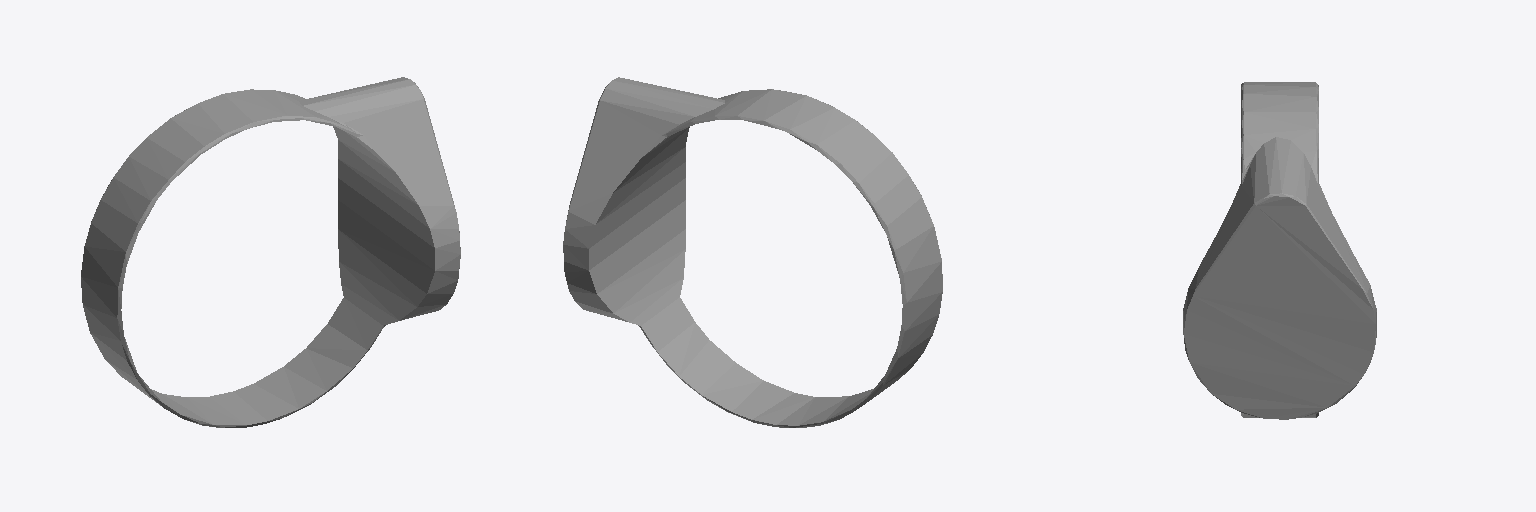
File: r_elbow_flex_link.OBJ
3 views of the same model, side by side, from view 1: azimuth 30°, elevation 25°; view 2: azimuth 150°, elevation 25°; view 3: azimuth 270°, elevation 25° (orthographic).
Visible parts, largest first — view 1: /ambf/env/pr2/r_elbow_flex_link_/ambf/env/pr2/r_elbow_flex_link_; view 2: /ambf/env/pr2/r_elbow_flex_link_/ambf/env/pr2/r_elbow_flex_link_; view 3: /ambf/env/pr2/r_elbow_flex_link_/ambf/env/pr2/r_elbow_flex_link_.
Part boxes in pixels (x1,y1,x2,y2): /ambf/env/pr2/r_elbow_flex_link_/ambf/env/pr2/r_elbow_flex_link_: (81, 77, 460, 427); /ambf/env/pr2/r_elbow_flex_link_/ambf/env/pr2/r_elbow_flex_link_: (563, 77, 942, 427); /ambf/env/pr2/r_elbow_flex_link_/ambf/env/pr2/r_elbow_flex_link_: (1183, 82, 1376, 419).
Bounding box in the file's own units: 0.1726 × 0.1599 × 0.0922.